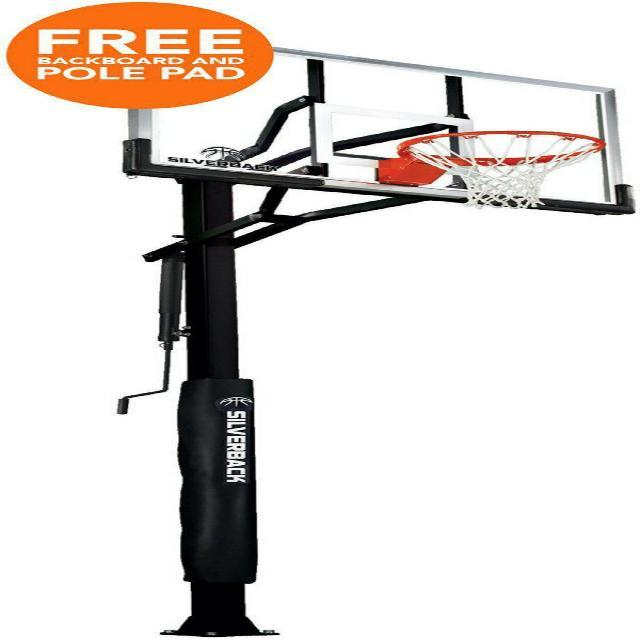hoop: (398, 130, 606, 208)
